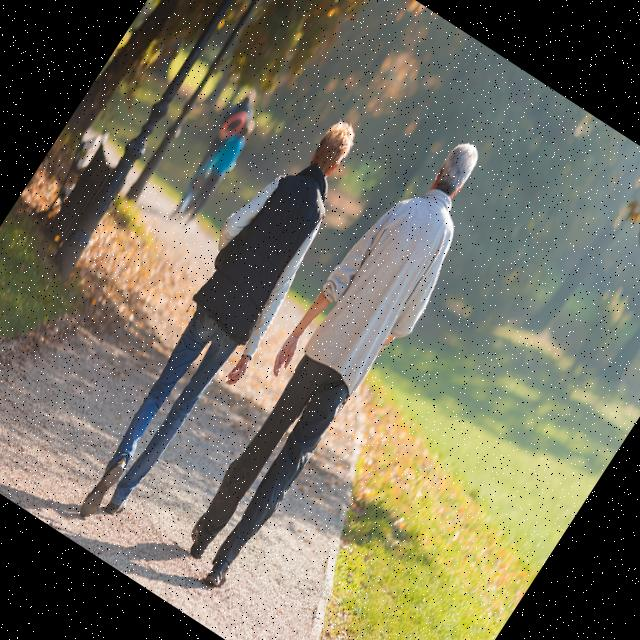Person: (153, 116, 514, 598), (46, 96, 388, 550), (174, 113, 260, 230)
